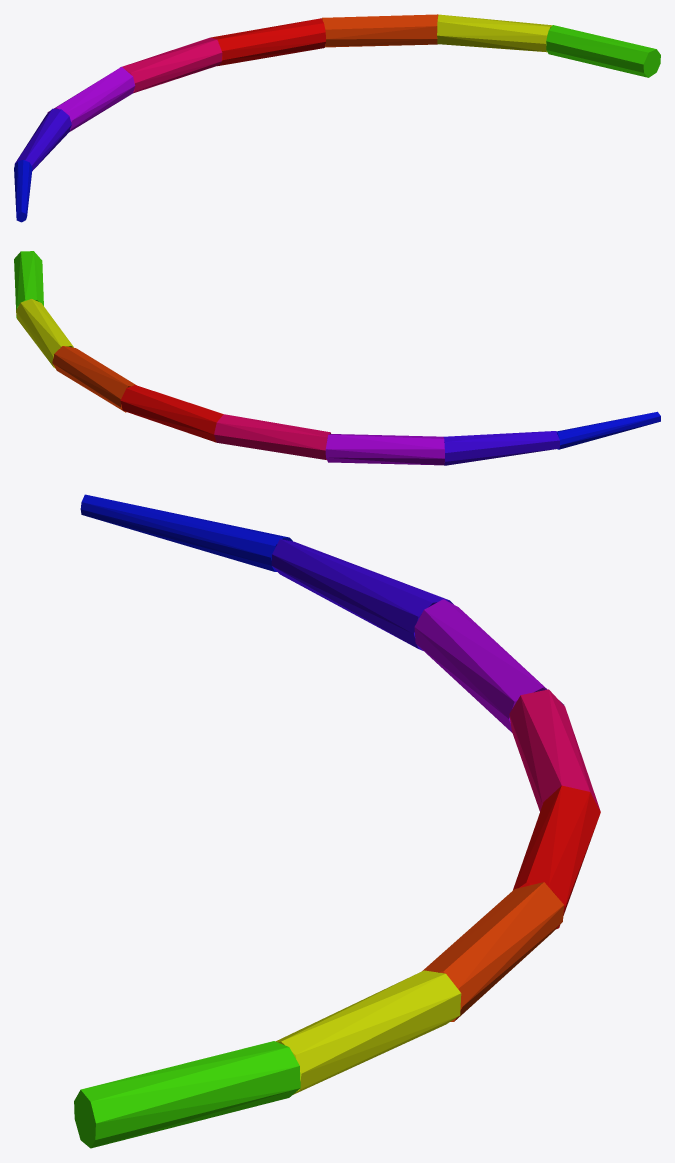
The model's file is Needle.OBJ.
3 views of the same model, one above another, from view 1: azimuth 30°, elevation 25°; view 2: azimuth 150°, elevation 25°; view 3: azimuth 270°, elevation 25° (orthographic). The views are drawn at different scales.
Parts seen in each view (by area): view 1: /ambf/env/NeedleCollision_003_/ambf/env/NeedleCollision_003_Need, /ambf/env/NeedleCollision_001_/ambf/env/NeedleCollision_001_Need, /ambf/env/NeedleCollision_004_/ambf/env/NeedleCollision_004_Need, /ambf/env/NeedleCollision_002_/ambf/env/NeedleCollision_002_Need, /ambf/env/NeedleCollision_005_/ambf/env/NeedleCollision_005_Need, /ambf/env/NeedleCollision_006_/ambf/env/NeedleCollision_006_Need, /ambf/env/NeedleCollision_007_/ambf/env/NeedleCollision_007_Need, /ambf/env/NeedleCollision_008_/ambf/env/NeedleCollision_008_Need; view 2: /ambf/env/NeedleCollision_006_/ambf/env/NeedleCollision_006_Need, /ambf/env/NeedleCollision_005_/ambf/env/NeedleCollision_005_Need, /ambf/env/NeedleCollision_004_/ambf/env/NeedleCollision_004_Need, /ambf/env/NeedleCollision_007_/ambf/env/NeedleCollision_007_Need, /ambf/env/NeedleCollision_003_/ambf/env/NeedleCollision_003_Need, /ambf/env/NeedleCollision_002_/ambf/env/NeedleCollision_002_Need, /ambf/env/NeedleCollision_008_/ambf/env/NeedleCollision_008_Need, /ambf/env/NeedleCollision_001_/ambf/env/NeedleCollision_001_Need; view 3: /ambf/env/NeedleCollision_001_/ambf/env/NeedleCollision_001_Need, /ambf/env/NeedleCollision_002_/ambf/env/NeedleCollision_002_Need, /ambf/env/NeedleCollision_003_/ambf/env/NeedleCollision_003_Need, /ambf/env/NeedleCollision_007_/ambf/env/NeedleCollision_007_Need, /ambf/env/NeedleCollision_006_/ambf/env/NeedleCollision_006_Need, /ambf/env/NeedleCollision_004_/ambf/env/NeedleCollision_004_Need, /ambf/env/NeedleCollision_005_/ambf/env/NeedleCollision_005_Need, /ambf/env/NeedleCollision_008_/ambf/env/NeedleCollision_008_Need.
Boxes of the visible parts, x1,y1,x2,y2 form: /ambf/env/NeedleCollision_003_/ambf/env/NeedleCollision_003_Need: (321,14,438,47); /ambf/env/NeedleCollision_001_/ambf/env/NeedleCollision_001_Need: (546,25,660,77); /ambf/env/NeedleCollision_004_/ambf/env/NeedleCollision_004_Need: (211,18,325,66); /ambf/env/NeedleCollision_002_/ambf/env/NeedleCollision_002_Need: (437,14,552,52); /ambf/env/NeedleCollision_005_/ambf/env/NeedleCollision_005_Need: (120,37,222,93); /ambf/env/NeedleCollision_006_/ambf/env/NeedleCollision_006_Need: (47,66,135,131); /ambf/env/NeedleCollision_007_/ambf/env/NeedleCollision_007_Need: (14,108,71,170); /ambf/env/NeedleCollision_008_/ambf/env/NeedleCollision_008_Need: (14,160,32,222); /ambf/env/NeedleCollision_006_/ambf/env/NeedleCollision_006_Need: (325,434,444,465); /ambf/env/NeedleCollision_005_/ambf/env/NeedleCollision_005_Need: (214,414,330,459); /ambf/env/NeedleCollision_004_/ambf/env/NeedleCollision_004_Need: (120,385,223,442); /ambf/env/NeedleCollision_007_/ambf/env/NeedleCollision_007_Need: (443,431,559,465); /ambf/env/NeedleCollision_003_/ambf/env/NeedleCollision_003_Need: (52,346,136,412); /ambf/env/NeedleCollision_002_/ambf/env/NeedleCollision_002_Need: (16,299,73,368); /ambf/env/NeedleCollision_008_/ambf/env/NeedleCollision_008_Need: (556,411,660,449); /ambf/env/NeedleCollision_001_/ambf/env/NeedleCollision_001_Need: (14,251,43,318); /ambf/env/NeedleCollision_001_/ambf/env/NeedleCollision_001_Need: (74,1041,300,1148); /ambf/env/NeedleCollision_002_/ambf/env/NeedleCollision_002_Need: (276,970,461,1094); /ambf/env/NeedleCollision_003_/ambf/env/NeedleCollision_003_Need: (422,882,564,1021); /ambf/env/NeedleCollision_007_/ambf/env/NeedleCollision_007_Need: (271,539,453,650); /ambf/env/NeedleCollision_006_/ambf/env/NeedleCollision_006_Need: (414,599,564,732); /ambf/env/NeedleCollision_004_/ambf/env/NeedleCollision_004_Need: (513,785,600,929); /ambf/env/NeedleCollision_005_/ambf/env/NeedleCollision_005_Need: (509,689,600,811); /ambf/env/NeedleCollision_008_/ambf/env/NeedleCollision_008_Need: (80,494,292,571).
Bounding box in the file's own units: 0.1874 × 0.0077 × 0.0663.
